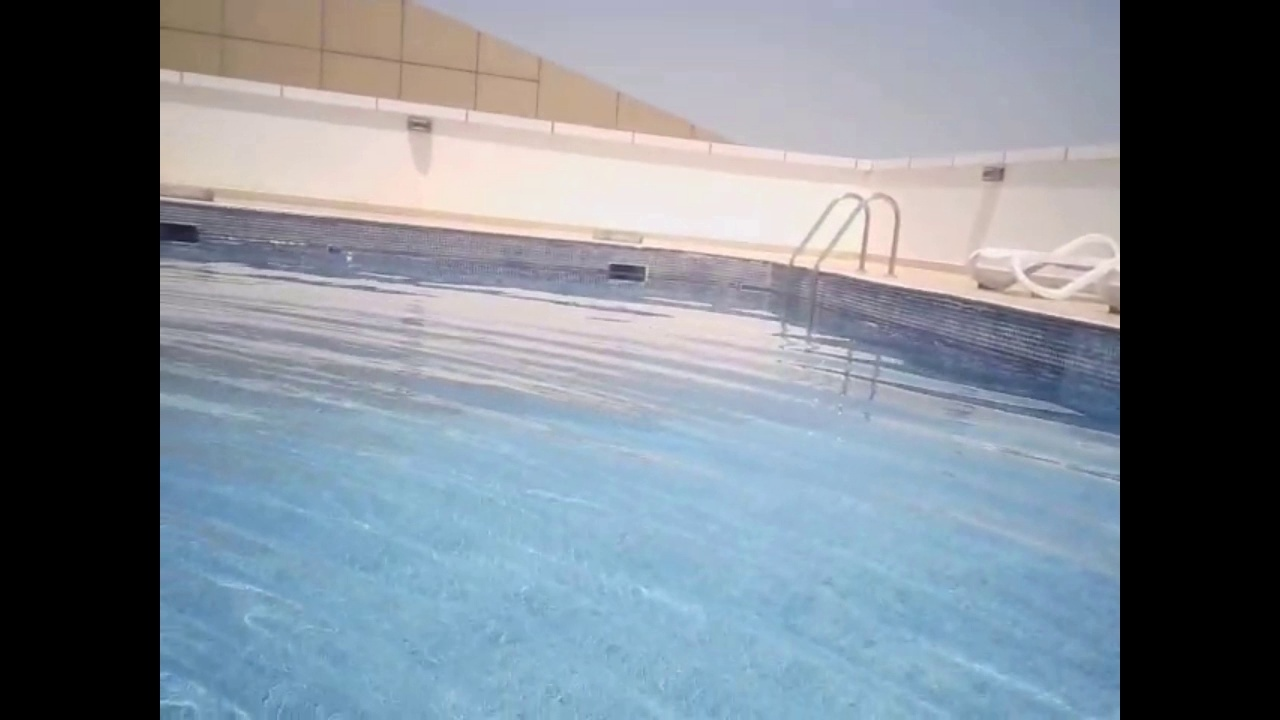debris: (320, 238, 344, 256), (342, 248, 355, 263)
